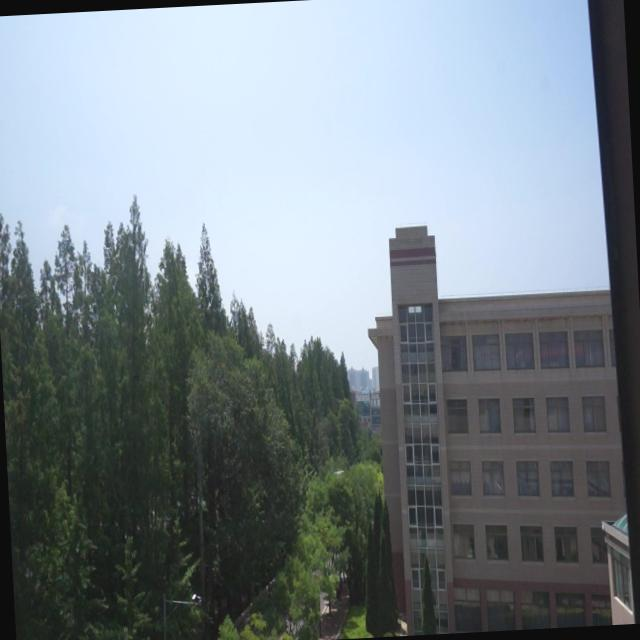drone: (332, 464, 346, 480)
